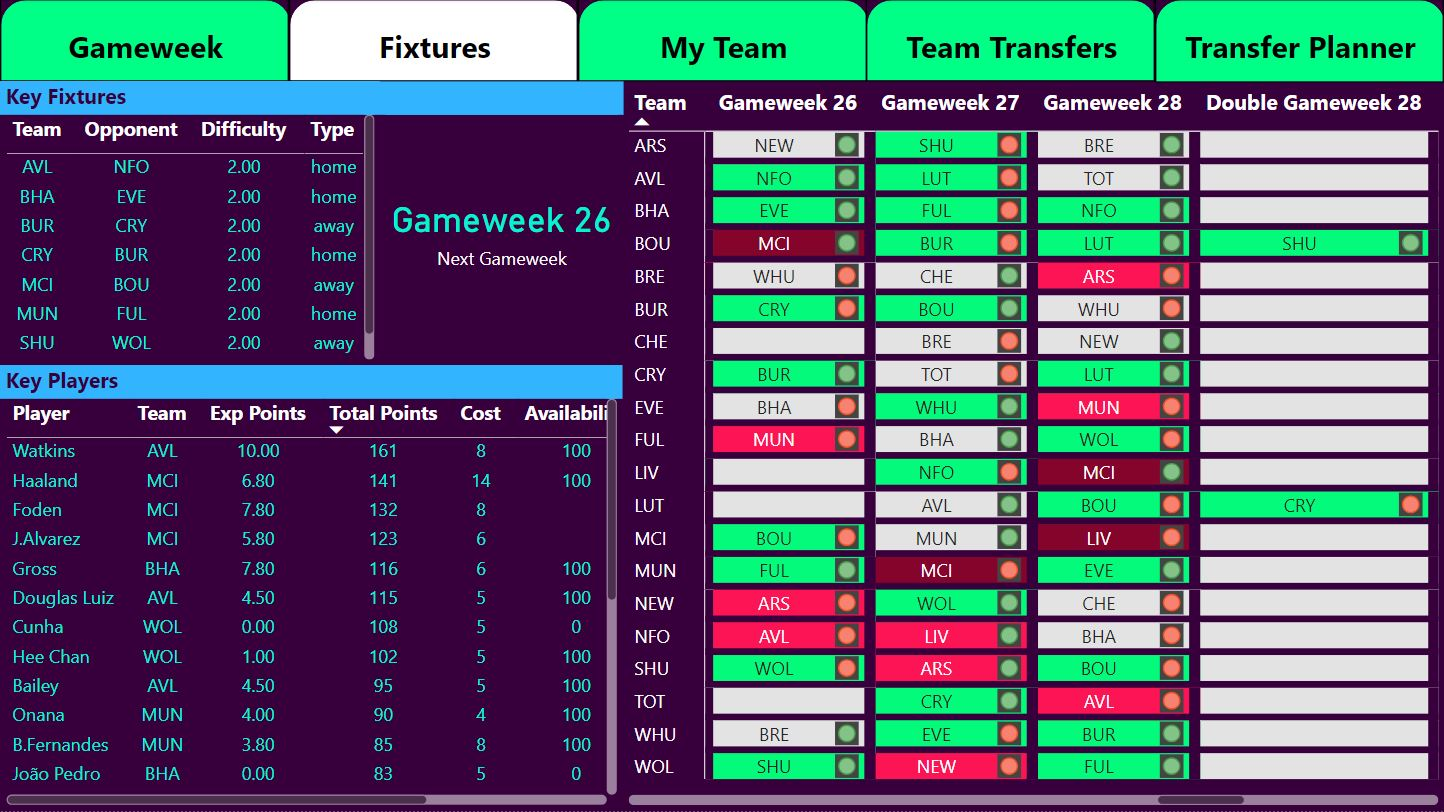

This screenshot's page, from the dashboard's own definition file:
{"tool":"powerbi","page":{"name":"Fixtures","canvas":[1280,720],"ordinal":1},"visuals":[{"type":"pivotTable","fields":{"Rows":["dbt_marts fixture_run.team"],"Values":["dbt_marts fixture_run.gameweek_1","dbt_marts fixture_run.gameweek_2","dbt_marts fixture_run.gameweek_3","dbt_marts fixture_run.gameweek_4","dbt_marts fixture_run.gameweek_5","dbt_marts fixture_run.gameweek_6","dbt_marts fixture_run.gameweek_7","dbt_marts fixture_run.double_gameweek_7","dbt_marts fixture_run.gameweek_8","dbt_marts fixture_run.gameweek_9","dbt_marts fixture_run.gameweek_10","dbt_marts fixture_run.gameweek_11"]},"box":[552.5,72.9,727.5,646.8],"z":0},{"type":"tableEx","title":"Key Players","fields":{"Values":["dbt_marts key_players.web_name","dbt_marts key_players.team","dbt_marts key_players.xpoints","dbt_marts key_players.total_points","dbt_marts key_players.cost","dbt_marts key_players.availability","dbt_marts key_players.position","dbt_marts key_players.selected_by_percent"]},"box":[0,324.9,552.5,394.9],"z":1000},{"type":"card","title":" ","fields":{"Values":["dbt_marts gameweek_info.gameweek_name"]},"box":[336.5,72.9,215.9,251.9],"z":2000},{"type":"actionButton","box":[53.1,24.9,179.6,39.5],"z":3000},{"type":"shape","box":[0,0,256.5,73.4],"z":4000},{"type":"shape","box":[256.5,0,256.5,73.4],"z":5000},{"type":"shape","box":[512.9,0,256.5,73.4],"z":6000},{"type":"shape","box":[768,0,256.5,73.4],"z":7000},{"type":"shape","box":[1024,0,256,73.6],"z":8000},{"type":"tableEx","title":"Key Fixtures","fields":{"Values":["dbt_marts difficulty.team","dbt_marts difficulty.opponent","dbt_marts difficulty.total_difficulty","dbt_marts difficulty.type"]},"box":[0,72.9,336.5,251.9],"z":9000},{"type":"actionButton","box":[571.9,25.3,136.2,38.9],"z":10000},{"type":"actionButton","box":[803.4,25.3,194.5,38.9],"z":11000},{"type":"actionButton","box":[1041.7,25.3,219.8,38.9],"z":12000},{"type":"actionButton","box":[53.5,25.3,150.8,38.9],"z":13000}]}

Visuals, with their boxes in screenshot pixels (x1, y1, x2, y2), scaled from the page's 1280x720 canvas onto the 1444x812 screenshot:
pivotTable - dbt_marts fixture_run.team x dbt_marts fixture_run.gameweek_1: 623/82/1443/811
"Key Players" tableEx: 0/366/623/811
" " card: 380/82/623/366
actionButton: 60/28/263/73
shape: 0/0/289/83
shape: 289/0/579/83
shape: 579/0/868/83
shape: 866/0/1156/83
shape: 1155/0/1443/83
"Key Fixtures" tableEx: 0/82/380/366
actionButton: 645/29/799/72
actionButton: 906/29/1126/72
actionButton: 1175/29/1423/72
actionButton: 60/29/230/72
